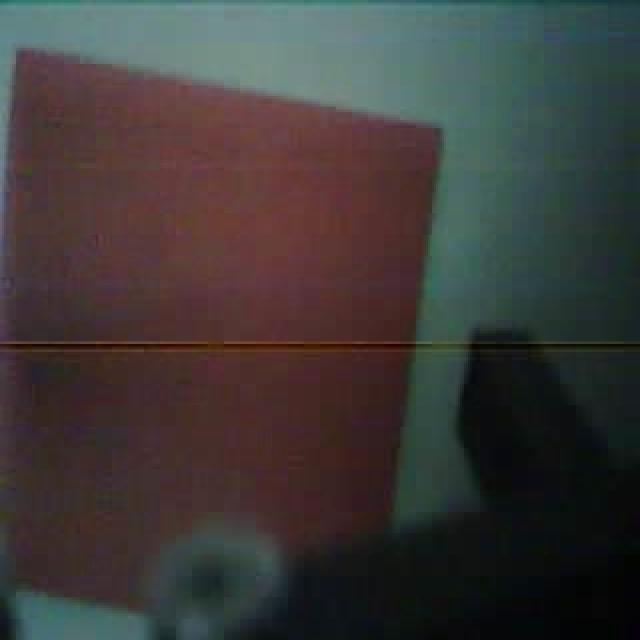red_box: (4, 41, 446, 628)
